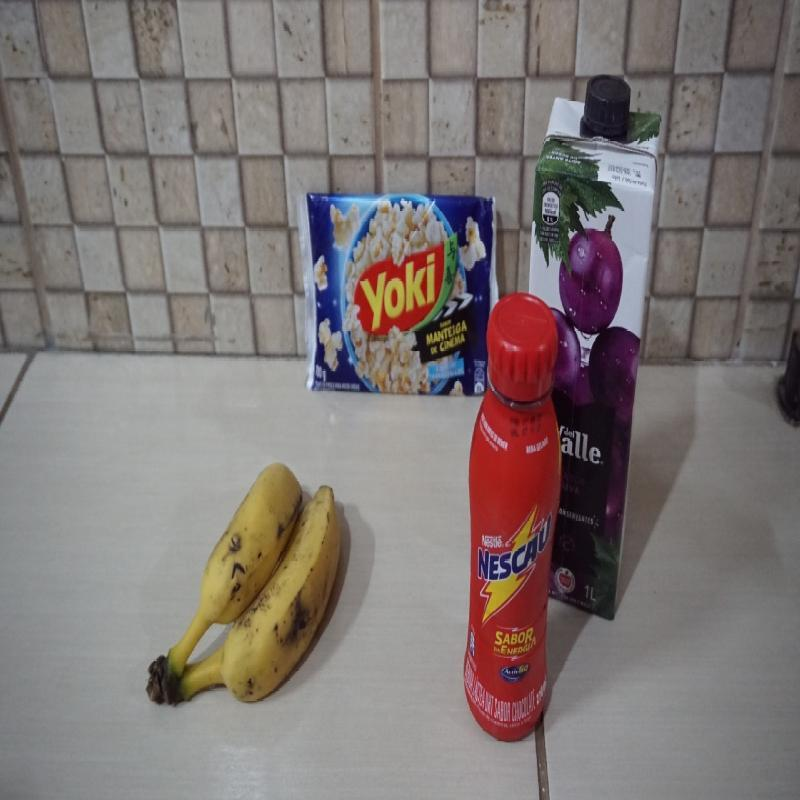Banana: (145, 466, 341, 715)
Chocolate Milk: (462, 292, 566, 738)
Popcorn: (299, 189, 499, 408)
